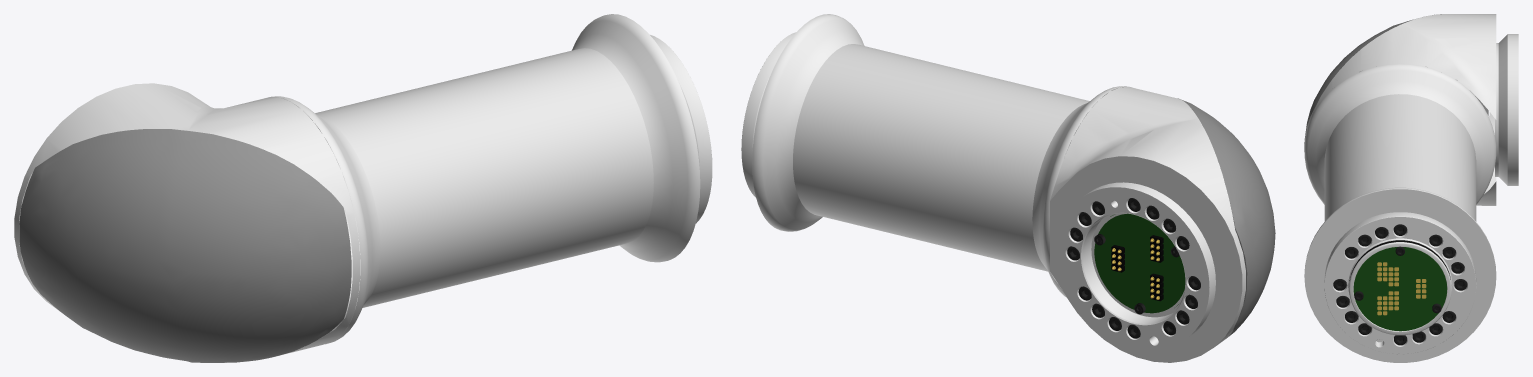
3 renders of one model, left to right at view 1: azimuth 30°, elevation 25°; view 2: azimuth 150°, elevation 25°; view 3: azimuth 270°, elevation 25°, orthographic. The views are drawn at different scales.
Visible parts, largest first — view 1: L86.001; view 2: L86.001; view 3: L86.001.
Part boxes in pixels (x1,y1,x2,y2): L86.001: (14,14,712,362); L86.001: (741,14,1275,362); L86.001: (1304,14,1518,362).
Size of the model in its own units: 0.2339 by 0.0863 by 0.0961.
